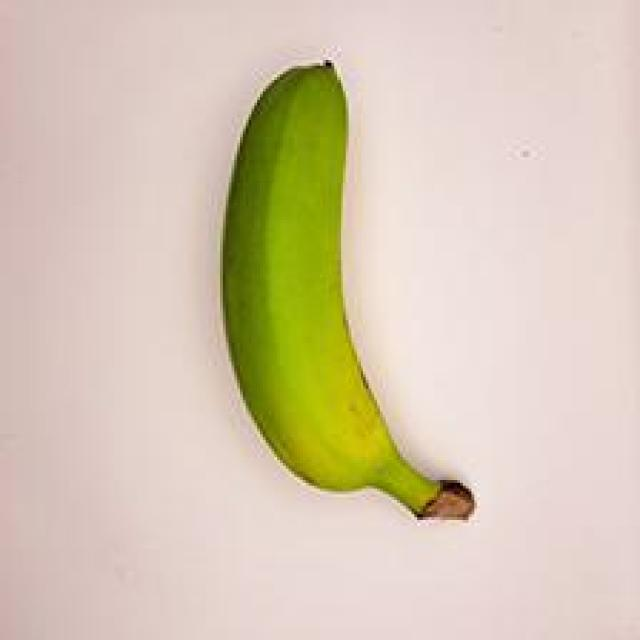Unripe: (210, 47, 494, 555)
